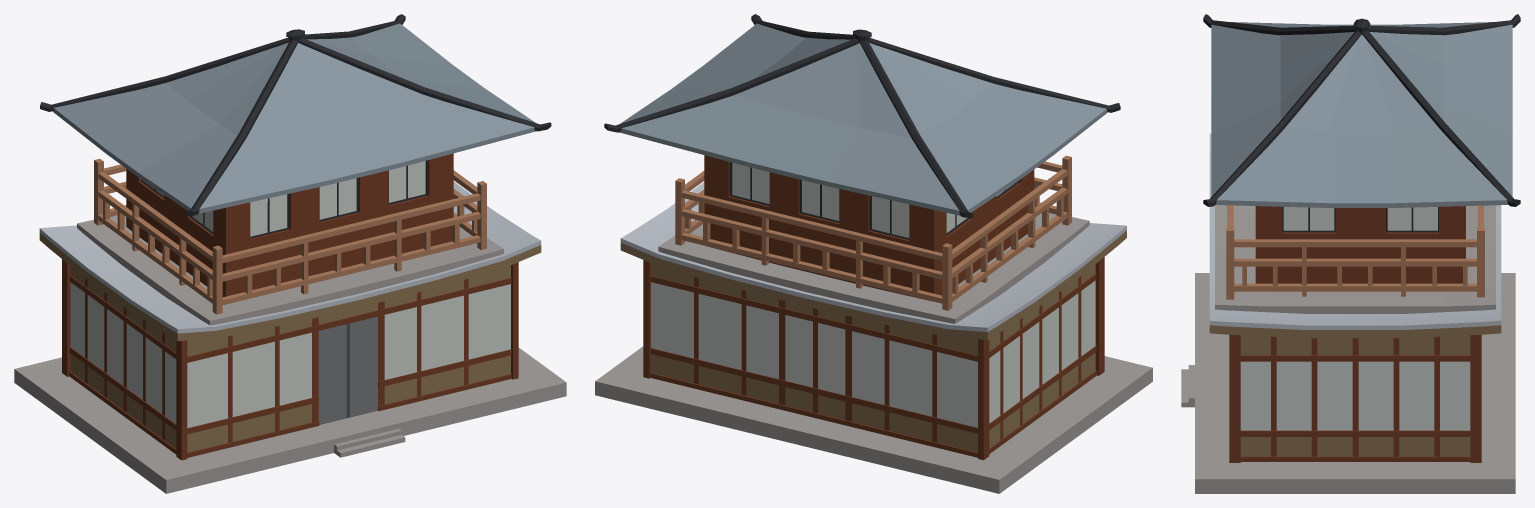
Rendered from Apartment_1.fbx.
The picture shows the model from 3 angles, left to right: view 1: azimuth 30°, elevation 25°; view 2: azimuth 150°, elevation 25°; view 3: azimuth 270°, elevation 25°; orthographic projection. The views are drawn at different scales.
Visible parts, largest first — view 1: Apartment_1; view 2: Apartment_1; view 3: Apartment_1.
Part boxes in pixels (box(x1,y1,x2,y2)): Apartment_1: box(14, 14, 566, 493); Apartment_1: box(595, 14, 1152, 493); Apartment_1: box(1181, 14, 1520, 493).
Bounding box in the file's own units: 415 × 351 × 289.
